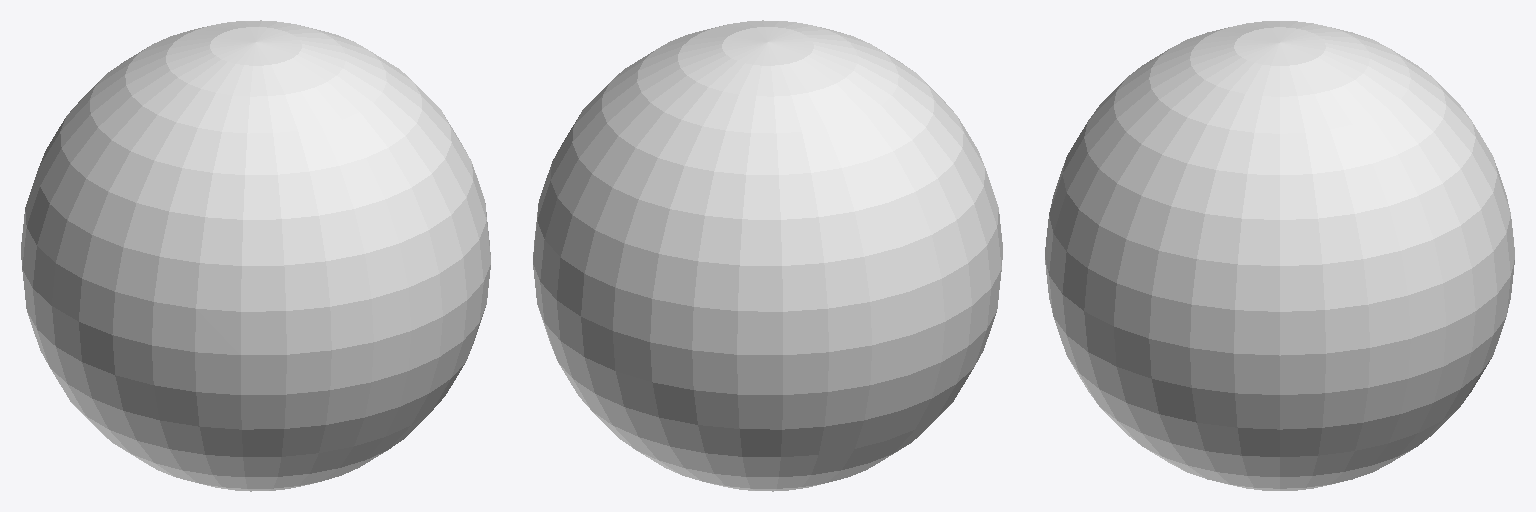
The robot description file, URDF, robot "tmp":
<robot name="tmp">
  <material name="RAL_9003_Signal_White">
    <color rgba="0.941 0.941 0.941 1" />
  </material>
  <material name="RAL_9005_Jet_Black">
    <color rgba="0.055 0.055 0.063 1" />
  </material>

  <link name="tmp_link">
    <visual>
      <origin
        xyz="0 0 0"
        rpy="0 0 0" />
      <geometry>
        <mesh
          filename="meshes/link.stl"  scale="0.001 0.001 0.001"/>
      </geometry>
      <material name="RAL_9005_Jet_Black"/>
    </visual>
  </link>


  <joint name="tmp_joint" type="fixed">
    <parent link="tmp_link"/>
    <child link="marker"/>
    <origin rpy="0 0 0" xyz="0.03 -0.01 0.02"/>
  </joint>
  <link name="marker">
    <visual>
    <origin xyz="0 0 0" rpy="0 0 0"/>
    <geometry>
      <sphere radius="0.0002"/>
    </geometry>
    <material name="RAL_9003_Signal_White"/>
    </visual>
  </link>

</robot>

--- Facts derived from the render (not from the file) ---
The picture shows the robot from 3 angles, left to right: view 1: azimuth 30°, elevation 25°; view 2: azimuth 150°, elevation 25°; view 3: azimuth 270°, elevation 25°; orthographic projection.
Model tmp with 2 links and 1 joints (1 fixed), rooted at tmp_link, posed all joints at 0.
Visible links, largest first — view 1: marker; view 2: marker; view 3: marker.
Link boxes in pixels (x1,y1,x2,y2): marker: (21,20,490,491); marker: (533,20,1002,491); marker: (1045,21,1514,490).
Bounding box of the posed robot: 0.0004 × 0.0004 × 0.0004 m (x, y, z).
Meshes: 1 distinct files referenced, 0 mesh visuals loaded (none loaded); not drawn: 1 (reference not matched to a file when rendering).
